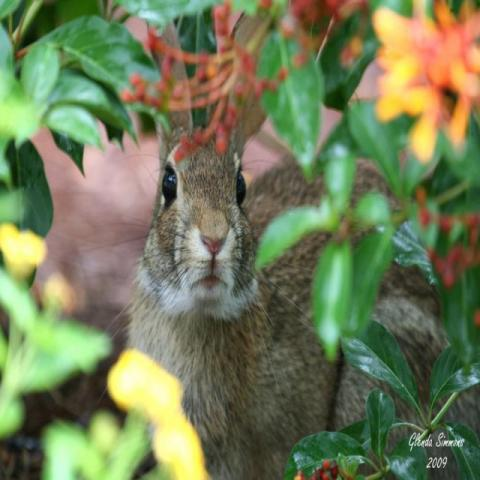small_animal: (116, 10, 472, 480)
